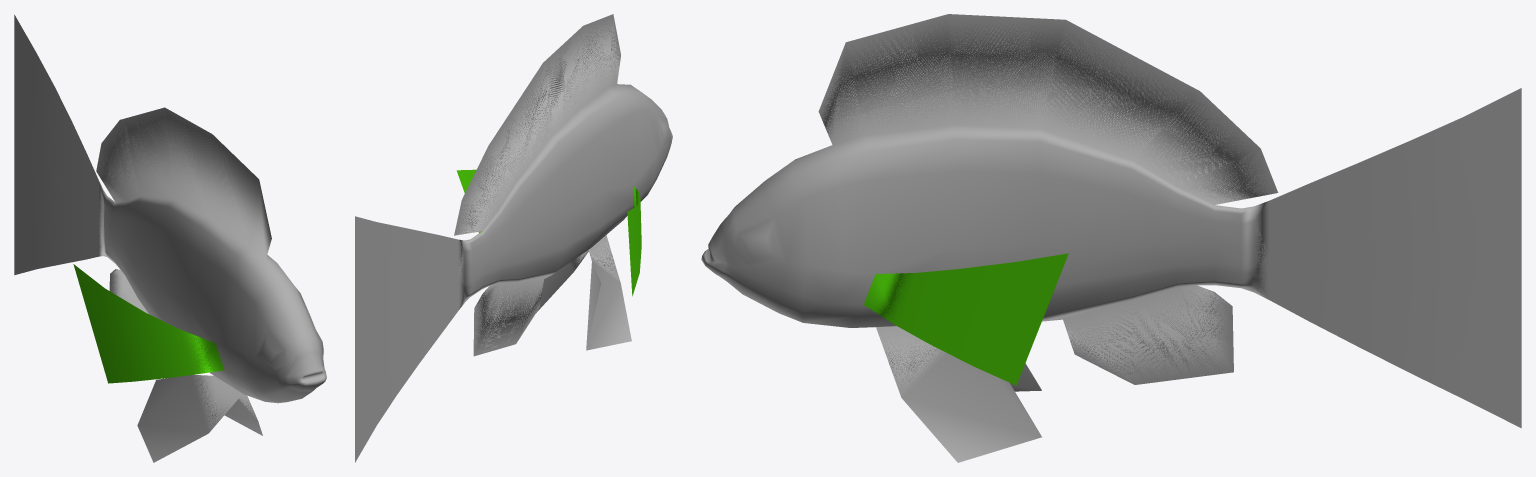
File: Serranidae_B_S.fbx
The picture shows the model from 3 angles, left to right: view 1: azimuth 30°, elevation 25°; view 2: azimuth 150°, elevation 25°; view 3: azimuth 270°, elevation 25°; orthographic projection. The views are drawn at different scales.
Parts seen in each view (by area): view 1: Serranidae_B_S_Mesh; view 2: Serranidae_B_S_Mesh; view 3: Serranidae_B_S_Mesh.
Part boxes in pixels (x1=…): Serranidae_B_S_Mesh: x1=14, y1=14, x2=326, y2=462; Serranidae_B_S_Mesh: x1=355, y1=14, x2=672, y2=462; Serranidae_B_S_Mesh: x1=701, y1=14, x2=1521, y2=462.
Bounding box in the file's own units: 0.00342 × 0.00574 × 0.0103.
